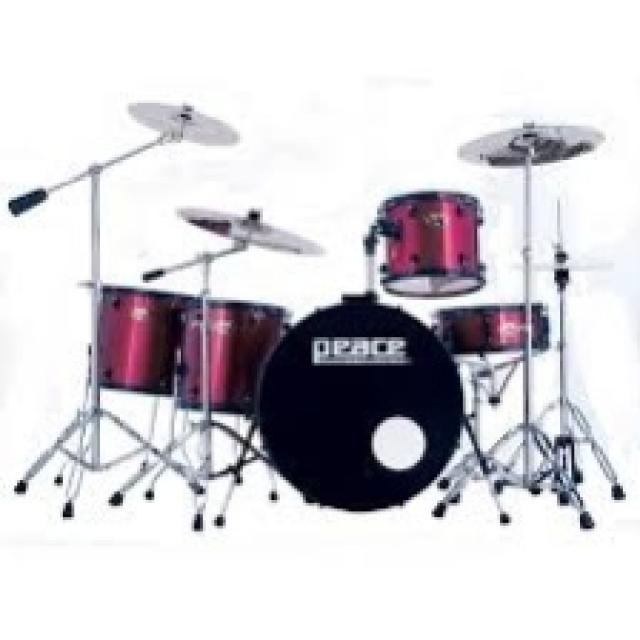drums: (17, 95, 625, 531)
